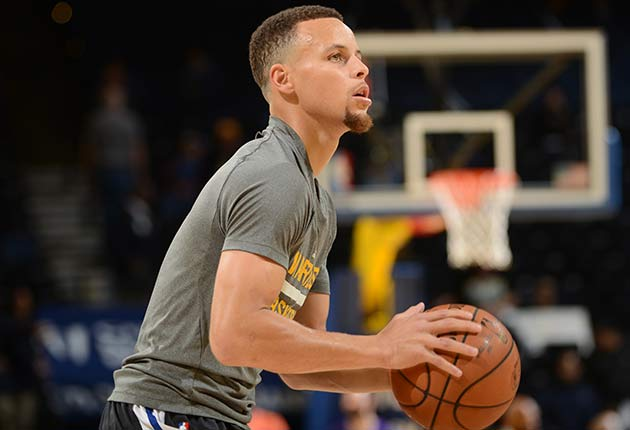Basketball: (390, 302, 522, 430)
